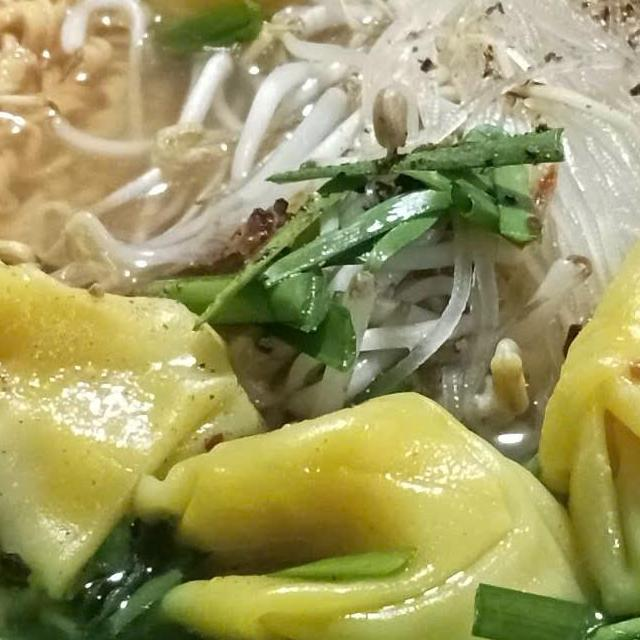hu tieu: (207, 0, 640, 446)
hu tieu mi: (0, 0, 640, 640)
mi: (0, 0, 179, 463)
